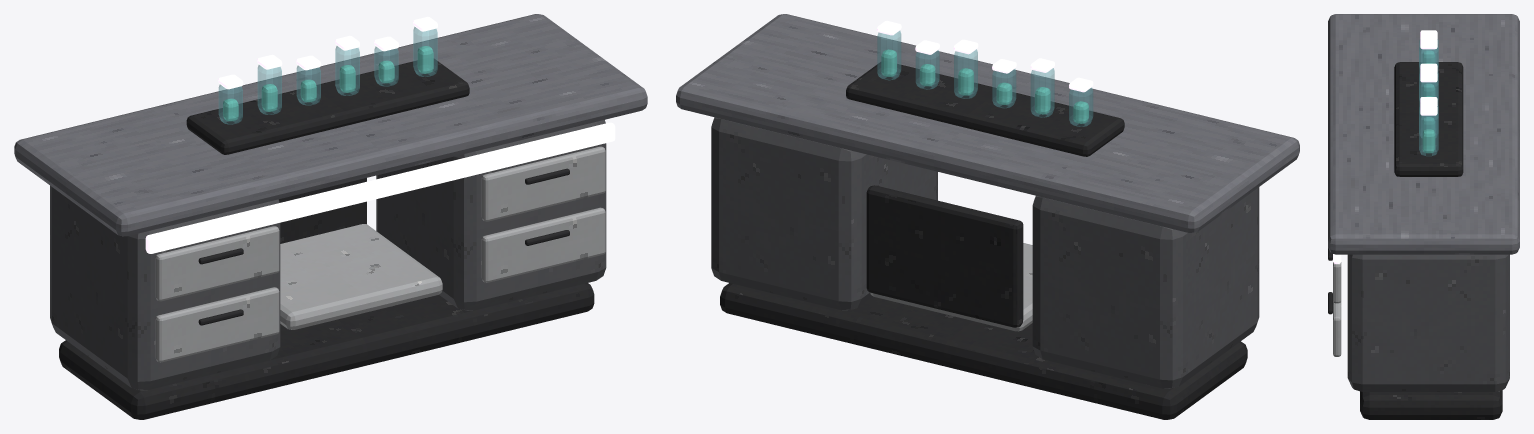
File: decor_chem_sample_bench.glb
3 renders of one model, left to right at view 1: azimuth 30°, elevation 25°; view 2: azimuth 150°, elevation 25°; view 3: azimuth 270°, elevation 25°, orthographic. The views are drawn at different scales.
Visible parts, largest first — view 1: DEC_ChemSampleBench__Worktop, DEC_ChemSampleBench__Left_Cabinet, DEC_ChemSampleBench__Toe_Plinth, DEC_ChemSampleBench__Right_Cabinet, DEC_ChemSampleBench__Lower_Shelf, DEC_ChemSampleBench__Sample_Rack, DEC_ChemSampleBench__Front_Accent, DEC_ChemSampleBench__Drawer_1_2, DEC_ChemSampleBench__Drawer_1_1, DEC_ChemSampleBench__Drawer_2_2, DEC_ChemSampleBench__Drawer_2_1, DEC_ChemSampleBench__Shelf_Back (+6 smaller); view 2: DEC_ChemSampleBench__Worktop, DEC_ChemSampleBench__Left_Cabinet, DEC_ChemSampleBench__Right_Cabinet, DEC_ChemSampleBench__Toe_Plinth, DEC_ChemSampleBench__Shelf_Back, DEC_ChemSampleBench__Sample_Rack, DEC_ChemSampleBench__Lower_Shelf, DEC_ChemSampleBench__Vial_2_Glass, DEC_ChemSampleBench__Vial_6_Glass, DEC_ChemSampleBench__Vial_4_Glass, DEC_ChemSampleBench__Vial_1_Glass, DEC_ChemSampleBench__Vial_3_Glass (+1 smaller); view 3: DEC_ChemSampleBench__Worktop, DEC_ChemSampleBench__Right_Cabinet, DEC_ChemSampleBench__Sample_Rack, DEC_ChemSampleBench__Toe_Plinth, DEC_ChemSampleBench__Vial_6_Glass, DEC_ChemSampleBench__Drawer_2_1, DEC_ChemSampleBench__Drawer_2_2, DEC_ChemSampleBench__Vial_4_Glass, DEC_ChemSampleBench__Vial_2_Glass, DEC_ChemSampleBench__Vial_6_Fill, DEC_ChemSampleBench__Vial_5_Glass, DEC_ChemSampleBench__Vial_4_Cap (+4 smaller).
Boxes of the visible parts, left/top/right/bottom form: DEC_ChemSampleBench__Worktop: left=14, top=14, right=647, bottom=236; DEC_ChemSampleBench__Left_Cabinet: left=50, top=185, right=280, bottom=390; DEC_ChemSampleBench__Toe_Plinth: left=59, top=283, right=594, bottom=419; DEC_ChemSampleBench__Right_Cabinet: left=376, top=120, right=606, bottom=310; DEC_ChemSampleBench__Lower_Shelf: left=280, top=224, right=442, bottom=329; DEC_ChemSampleBench__Sample_Rack: left=186, top=58, right=469, bottom=154; DEC_ChemSampleBench__Front_Accent: left=145, top=122, right=615, bottom=253; DEC_ChemSampleBench__Drawer_1_2: left=155, top=226, right=279, bottom=301; DEC_ChemSampleBench__Drawer_1_1: left=155, top=287, right=279, bottom=362; DEC_ChemSampleBench__Drawer_2_2: left=481, top=146, right=605, bottom=221; DEC_ChemSampleBench__Drawer_2_1: left=481, top=207, right=605, bottom=282; DEC_ChemSampleBench__Shelf_Back: left=278, top=178, right=366, bottom=243; DEC_ChemSampleBench__Worktop: left=676, top=14, right=1299, bottom=232; DEC_ChemSampleBench__Left_Cabinet: left=1032, top=187, right=1259, bottom=388; DEC_ChemSampleBench__Right_Cabinet: left=711, top=117, right=937, bottom=310; DEC_ChemSampleBench__Toe_Plinth: left=720, top=283, right=1247, bottom=419; DEC_ChemSampleBench__Shelf_Back: left=866, top=185, right=1023, bottom=327; DEC_ChemSampleBench__Sample_Rack: left=846, top=62, right=1124, bottom=156; DEC_ChemSampleBench__Lower_Shelf: left=870, top=243, right=1032, bottom=331; DEC_ChemSampleBench__Vial_2_Glass: left=1030, top=68, right=1054, bottom=117; DEC_ChemSampleBench__Vial_6_Glass: left=877, top=31, right=901, bottom=80; DEC_ChemSampleBench__Vial_4_Glass: left=954, top=49, right=977, bottom=98; DEC_ChemSampleBench__Vial_1_Glass: left=1069, top=87, right=1093, bottom=126; DEC_ChemSampleBench__Vial_3_Glass: left=992, top=69, right=1016, bottom=108; DEC_ChemSampleBench__Worktop: left=1328, top=14, right=1519, bottom=254; DEC_ChemSampleBench__Right_Cabinet: left=1347, top=254, right=1509, bottom=391; DEC_ChemSampleBench__Sample_Rack: left=1394, top=62, right=1463, bottom=176; DEC_ChemSampleBench__Toe_Plinth: left=1360, top=390, right=1502, bottom=419; DEC_ChemSampleBench__Vial_6_Glass: left=1419, top=113, right=1438, bottom=156; DEC_ChemSampleBench__Drawer_2_1: left=1333, top=301, right=1341, bottom=356; DEC_ChemSampleBench__Drawer_2_2: left=1333, top=262, right=1341, bottom=303; DEC_ChemSampleBench__Vial_4_Glass: left=1419, top=80, right=1438, bottom=113; DEC_ChemSampleBench__Vial_2_Glass: left=1419, top=47, right=1438, bottom=80; DEC_ChemSampleBench__Vial_6_Fill: left=1422, top=129, right=1435, bottom=153; DEC_ChemSampleBench__Vial_5_Glass: left=1419, top=105, right=1438, bottom=137; DEC_ChemSampleBench__Vial_4_Cap: left=1420, top=71, right=1437, bottom=82.
Size of the model in its own units: 2.18 by 1.16 by 0.78.
7 materials, 4 textured.
